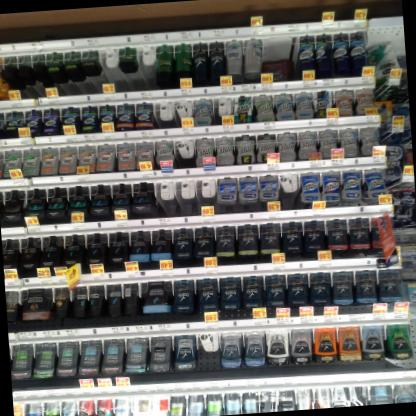empty_space: (98, 49, 120, 94), (136, 47, 158, 91), (175, 140, 196, 169), (172, 100, 194, 127), (154, 102, 173, 129), (134, 398, 155, 416), (153, 397, 169, 416), (411, 320, 416, 372)
